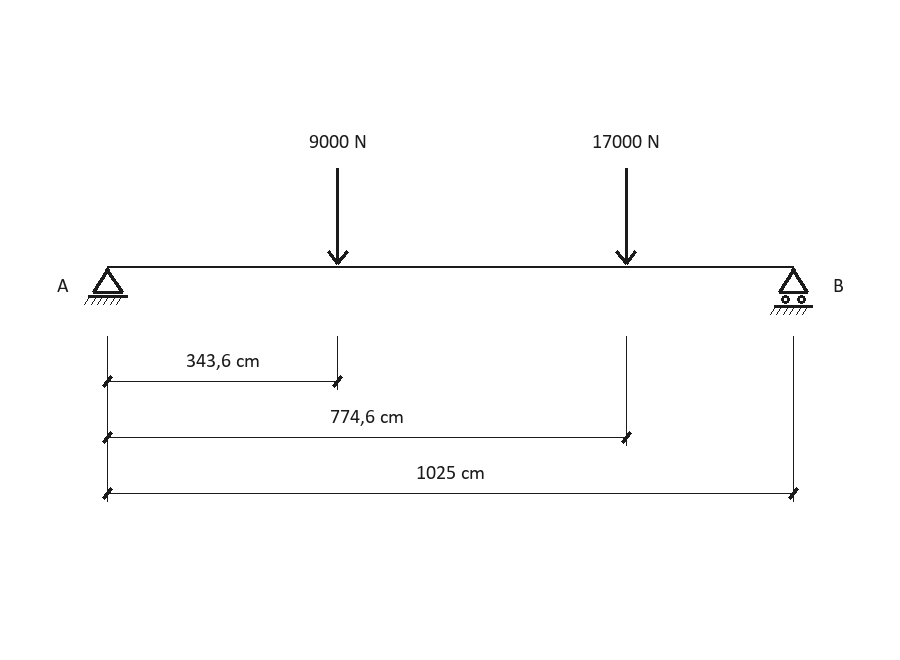pin_support: (84, 268, 128, 305)
point_load: (327, 168, 349, 265), (615, 168, 637, 265)
roller_support: (770, 268, 813, 315)
